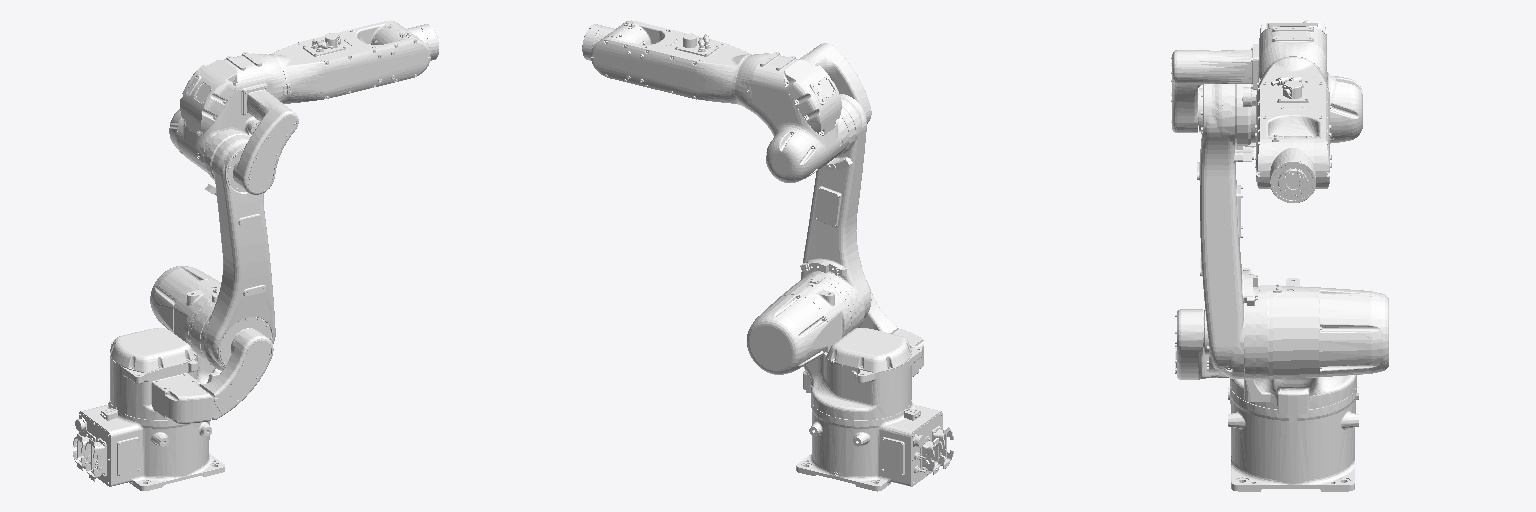
robot.urdf — ER15-1400-updatefulldyn:
<?xml version="1.0" encoding="utf-8"?>
<!-- This URDF was automatically created by SolidWorks to URDF Exporter! Originally created by [author] ([email redacted]) 
     Commit Version: 1.6.0-1-g15f4949  Build Version: 1.6.7594.29634
     For more information, please see http://wiki.ros.org/sw_urdf_exporter -->
<robot
  name="ER15-1400-updatefulldyn">
  <link
    name="base_link">
    <inertial>
      <origin
        xyz="-0.0357961083679042 7.93637485029235E-06 0.108698382740914"
        rpy="0 0 0" />
      <mass
        value="17.5519566170205" />
      <inertia
        ixx="0.151734386973526"
        ixy="0.000327145277639315"
        ixz="-0.00353203408532099"
        iyy="0.22707056974455"
        iyz="-7.78392767620196E-05"
        izz="0.260684797557782" />
    </inertial>
    <visual>
      <origin
        xyz="0 0 0"
        rpy="0 0 0" />
      <geometry>
        <mesh
          filename="../meshes/base_link.STL" />
      </geometry>
      <material
        name="">
        <color
          rgba="1 1 1 1" />
      </material>
    </visual>
    <collision>
      <origin
        xyz="0 0 0"
        rpy="0 0 0" />
      <geometry>
        <mesh
          filename="../meshes/base_link.STL" />
      </geometry>
    </collision>
  </link>
  <link
    name="link_1">
    <inertial>
      <origin
        xyz="0.09835 -0.02908 -0.0995"
        rpy="0 0 0" />
      <mass
        value="54.52" />
      <inertia
        ixx="1.16916852"
        ixy="0.0865367"
        ixz="-0.47354118"
        iyy="1.39934751"
        iyz="0.11859959"
        izz="1.00920236" />
    </inertial>
    <visual>
      <origin
        xyz="0 0 0"
        rpy="0 0 0" />
      <geometry>
        <mesh
          filename="../meshes/link_1.STL" />
      </geometry>
      <material
        name="">
        <color
          rgba="1 1 1 1" />
      </material>
    </visual>
    <collision>
      <origin
        xyz="0 0 0"
        rpy="0 0 0" />
      <geometry>
        <mesh
          filename="../meshes/link_1.STL" />
      </geometry>
    </collision>
  </link>
  <joint
    name="joint_1"
    type="revolute">
    <origin
      xyz="0 0 0.43"
      rpy="0 0 0" />
    <parent
      link="base_link" />
    <child
      link="link_1" />
    <axis
      xyz="0 0 1" />
    <limit
      lower="-2.967"
      upper="2.967"
      effort="0"
      velocity="0" />
  </joint>
  <link
    name="link_2">
    <inertial>
      <origin
        xyz="0.25263 -0.00448 0.15471"
        rpy="0 0 0" />
      <mass
        value="11.11" />
      <inertia
        ixx="0.04507715"
        ixy="-0.00764148"
        ixz="-0.01800527"
        iyy="0.58269106"
        iyz="0.00057833"
        izz="0.60235638" />
    </inertial>
    <visual>
      <origin
        xyz="0 0 0"
        rpy="0 0 0" />
      <geometry>
        <mesh
          filename="../meshes/link_2.STL" />
      </geometry>
      <material
        name="">
        <color
          rgba="1 1 1 1" />
      </material>
    </visual>
    <collision>
      <origin
        xyz="0 0 0"
        rpy="0 0 0" />
      <geometry>
        <mesh
          filename="../meshes/link_2.STL" />
      </geometry>
    </collision>
  </link>
  <joint
    name="joint_2"
    type="revolute">
    <origin
      xyz="0.18 0 0"
      rpy="1.5707963267949 -1.5707963267949 0" />
    <parent
      link="link_1" />
    <child
      link="link_2" />
    <axis
      xyz="1 0 0" />
    <limit
      lower="-2.7925"
      upper="1.5708"
      effort="0"
      velocity="0" />
  </joint>
  <link
    name="link_3">
    <inertial>
      <origin
        xyz="0.03913 -0.02495 0.03337"
        rpy="0 0 0" />
      <mass
        value="25.03" />
      <inertia
        ixx="0.33717585"
        ixy="0.06955124"
        ixz="0.00142677"
        iyy="0.38576036"
        iyz="-0.00313441"
        izz="0.24095087" />
    </inertial>
    <visual>
      <origin
        xyz="0 0 0"
        rpy="0 0 0" />
      <geometry>
        <mesh
          filename="../meshes/link_3.STL" />
      </geometry>
      <material
        name="">
        <color
          rgba="1 1 1 1" />
      </material>
    </visual>
    <collision>
      <origin
        xyz="0 0 0"
        rpy="0 0 0" />
      <geometry>
        <mesh
          filename="../meshes/link_3.STL" />
      </geometry>
    </collision>
  </link>
  <joint
    name="joint_3"
    type="revolute">
    <origin
      xyz="0.58 0 0"
      rpy="0 0 0" />
    <parent
      link="link_2" />
    <child
      link="link_3" />
    <axis
      xyz="0 0 1" />
    <limit
      lower="-1.4835"
      upper="3.0543"
      effort="0"
      velocity="0" />
  </joint>
  <link
    name="link_4">
    <inertial>
      <origin
        xyz="-0.00132	-0.0012	-0.30035"
        rpy="0 0 0" />
      <mass
        value="10.81" />
      <inertia
        ixx="0.28066314"
        ixy="-0.00003381"
        ixz="0.00084678"
        iyy="0.27142738"
        iyz="0.00437676"
        izz="0.04425281" />
    </inertial>
    <visual>
      <origin
        xyz="0 0 0"
        rpy="0 0 0" />
      <geometry>
        <mesh
          filename="../meshes/link_4.STL" />
      </geometry>
      <material
        name="">
        <color
          rgba="1 1 1 1" />
      </material>
    </visual>
    <collision>
      <origin
        xyz="0 0 0"
        rpy="0 0 0" />
      <geometry>
        <mesh
          filename="../meshes/link_4.STL" />
      </geometry>
    </collision>
  </link>
  <joint
    name="joint_4"
    type="revolute">
    <origin
      xyz="0.16 -0.64 0"
      rpy="-1.5707963267949 0 3.14159265358979" />
    <parent
      link="link_3" />
    <child
      link="link_4" />
    <axis
      xyz="0 0 1" />
    <limit
      lower="-3.316"
      upper="3.316"
      effort="0"
      velocity="0" />
  </joint>
  <link
    name="link_5">
    <inertial>
      <origin
        xyz="0.0004 -0.03052 0.01328"
        rpy="0 0 0" />
      <mass
        value="4.48" />
      <inertia
        ixx="0.01710138"
        ixy="-0.00002606"
        ixz="0.00000867"
        iyy="0.01098115"
        iyz="-0.00175535"
        izz="0.01408541" />
    </inertial>
    <visual>
      <origin
        xyz="0 0 0"
        rpy="0 0 0" />
      <geometry>
        <mesh
          filename="../meshes/link_5.STL" />
      </geometry>
      <material
        name="">
        <color
          rgba="1 1 1 1" />
      </material>
    </visual>
    <collision>
      <origin
        xyz="0 0 0"
        rpy="0 0 0" />
      <geometry>
        <mesh
          filename="../meshes/link_5.STL" />
      </geometry>
    </collision>
  </link>
  <joint
    name="joint_5"
    type="revolute">
    <origin
      xyz="0 0 0"
      rpy="-1.5707963267949 0 3.14159265358979" />
    <parent
      link="link_4" />
    <child
      link="link_5" />
    <axis
      xyz="0 0 1" />
    <limit
      lower="-2.2689"
      upper="2.2689"
      effort="0"
      velocity="0" />
  </joint>
  <link
    name="link_6">
    <inertial>
      <origin
        xyz="0 0 0"
        rpy="0 0 0" />
      <mass
        value="0.28" />
      <inertia
        ixx="0.0001346961"
        ixy="0.0000076"
        ixz="-0.00000827"
        iyy="0.0001645611"
        iyz="0.000118982	"
        izz="0.001539171" />
    </inertial>
    <visual>
      <origin
        xyz="0 0 0"
        rpy="0 0 0" />
      <geometry>
        <mesh
          filename="../meshes/link_6.STL" />
      </geometry>
      <material
        name="">
        <color
          rgba="1 1 1 1" />
      </material>
    </visual>
    <collision>
      <origin
        xyz="0 0 0"
        rpy="0 0 0" />
      <geometry>
        <mesh
          filename="../meshes/link_6.STL" />
      </geometry>
    </collision>
  </link>
  <joint
    name="joint_6"
    type="revolute">
    <origin
      xyz="0 -0.116 0"
      rpy="1.5707963267949 0 0" />
    <parent
      link="link_5" />
    <child
      link="link_6" />
    <axis
      xyz="0 0 1" />
    <limit
      lower="-6.2832"
      upper="6.2832"
      effort="0"
      velocity="0" />
  </joint>
</robot>

--- What the picture shows (computed from the rendered views, not written in the file) ---
The picture shows the robot from 3 angles, left to right: view 1: azimuth 30°, elevation 25°; view 2: azimuth 150°, elevation 25°; view 3: azimuth 270°, elevation 25°; orthographic projection.
Model ER15-1400-updatefulldyn with 7 links and 6 joints (6 revolute), rooted at base_link, posed all joints at 0.
Links seen in each view (by area): view 1: link_1, link_3, link_2, base_link, link_4, link_5; view 2: link_1, link_3, base_link, link_4, link_2, link_5; view 3: link_1, link_2, base_link, link_3, link_4, link_5, link_6.
Boxes of the visible links, <box> form: link_1: <box>110,266,273,423</box>; link_3: <box>169,52,298,194</box>; link_2: <box>200,135,275,370</box>; base_link: <box>73,401,224,490</box>; link_4: <box>269,20,430,103</box>; link_5: <box>373,24,438,60</box>; link_1: <box>747,272,923,419</box>; link_3: <box>735,43,871,182</box>; base_link: <box>796,400,953,491</box>; link_4: <box>591,20,751,104</box>; link_2: <box>800,94,871,327</box>; link_5: <box>582,22,648,60</box>; link_1: <box>1175,278,1388,422</box>; link_2: <box>1197,84,1257,378</box>; base_link: <box>1228,385,1358,491</box>; link_3: <box>1171,20,1362,146</box>; link_4: <box>1255,57,1331,188</box>; link_5: <box>1270,134,1315,202</box>; link_6: <box>1278,168,1308,196</box>.
Size in the robot's own frame: 1.21 by 0.5166 by 1.27 metres.
7 mesh visuals loaded from 7 distinct referenced files (7 binary STL).